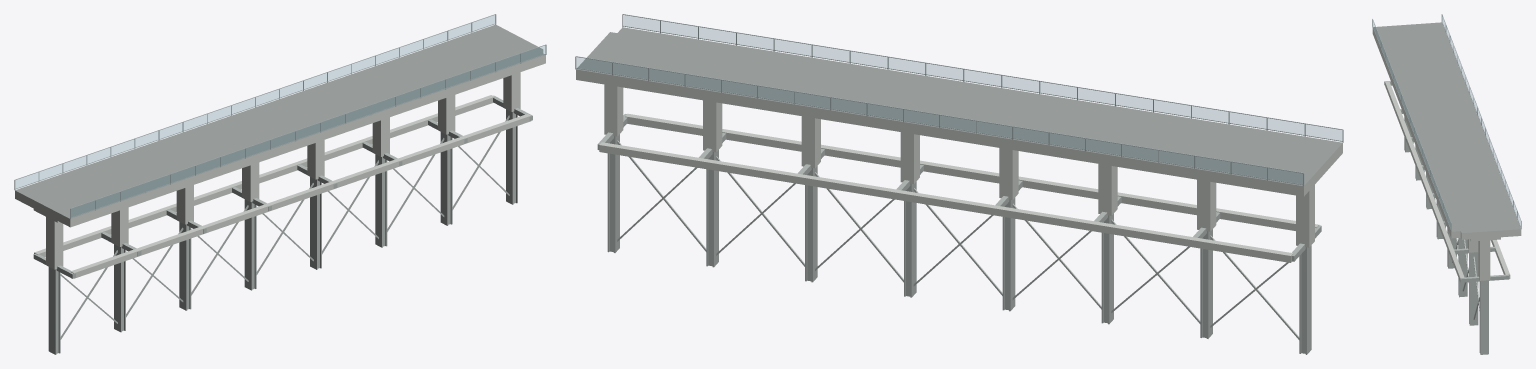
The model's file is station-west-viaduct.glb.
The picture shows the model from 3 angles, left to right: view 1: azimuth 30°, elevation 25°; view 2: azimuth 150°, elevation 25°; view 3: azimuth 270°, elevation 25°; orthographic projection. The views are drawn at different scales.
Visible parts, largest first — view 1: wv_top, wv_concrete, wv_steel, wv_mesh, wv_rail; view 2: wv_top, wv_concrete, wv_steel, wv_mesh, wv_rail; view 3: wv_top, wv_concrete, wv_steel, wv_rail, wv_mesh.
Boxes of the visible parts, x1,y1,x2,y2 form: wv_top: [15, 24, 545, 218]; wv_concrete: [15, 49, 545, 278]; wv_steel: [33, 95, 532, 354]; wv_mesh: [16, 15, 545, 216]; wv_rail: [14, 14, 546, 219]; wv_top: [576, 27, 1342, 185]; wv_concrete: [576, 69, 1342, 262]; wv_steel: [597, 114, 1321, 354]; wv_mesh: [577, 15, 1341, 183]; wv_rail: [575, 14, 1343, 186]; wv_top: [1373, 22, 1520, 232]; wv_concrete: [1372, 27, 1521, 280]; wv_steel: [1384, 81, 1508, 354]; wv_rail: [1372, 14, 1521, 231]; wv_mesh: [1373, 17, 1520, 227].
Bounding box in the file's own units: 60.7 × 18.18 × 18.13.
